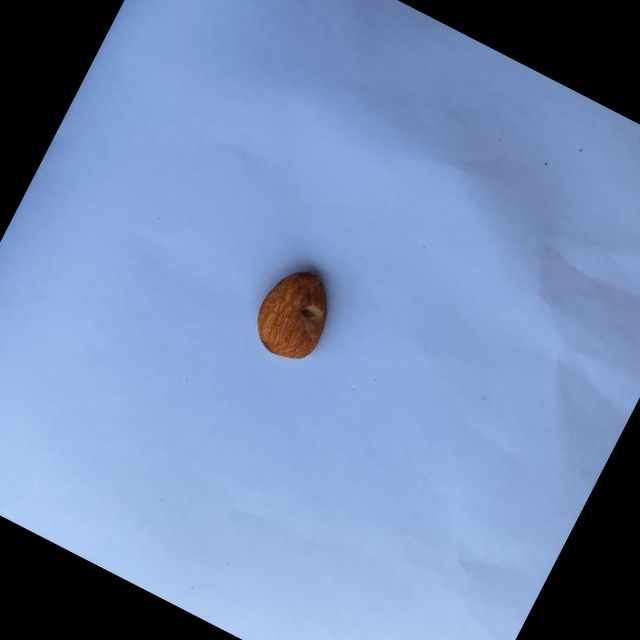grade3: (241, 254, 352, 376)
